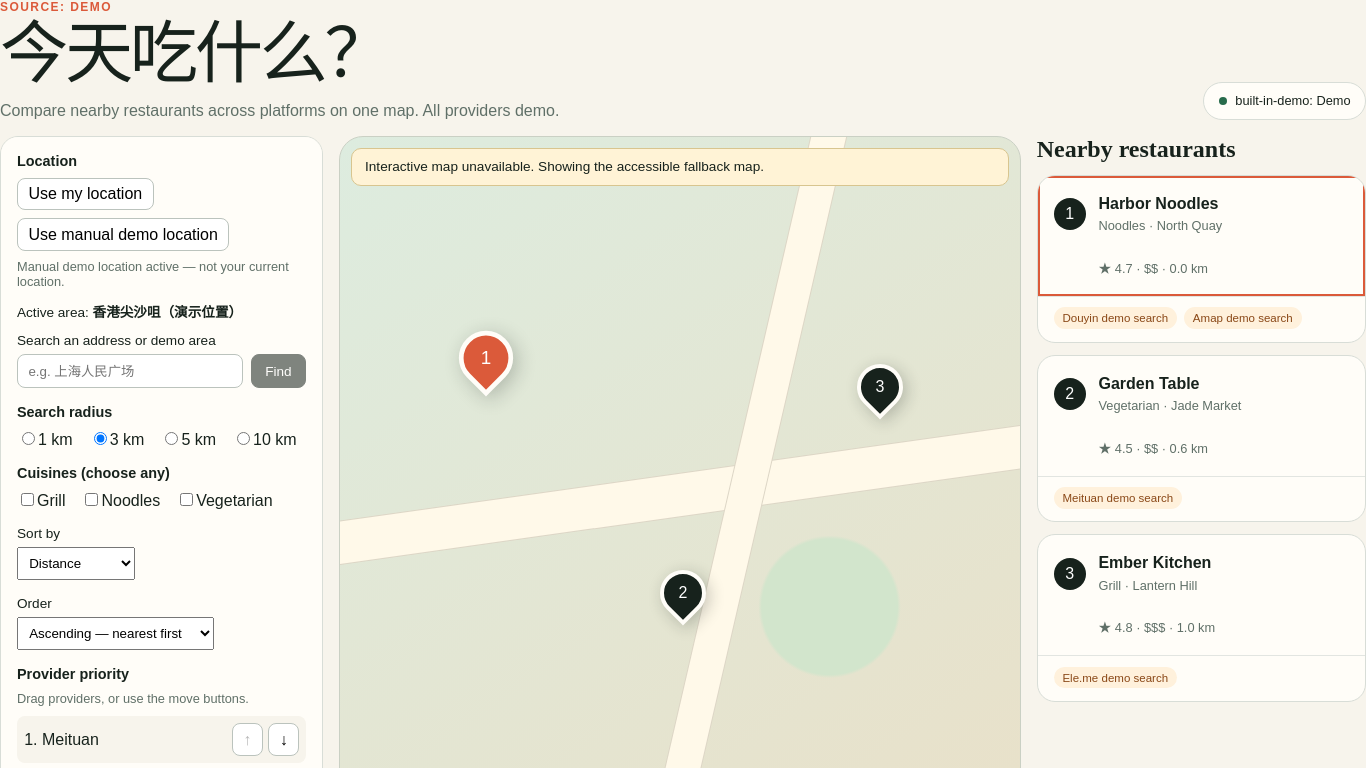
Test: PlaceExplorer › announces geolocation loading, denied, error, and success states
Click the button "Use my location" at (85, 194), box [17,178,154,210]
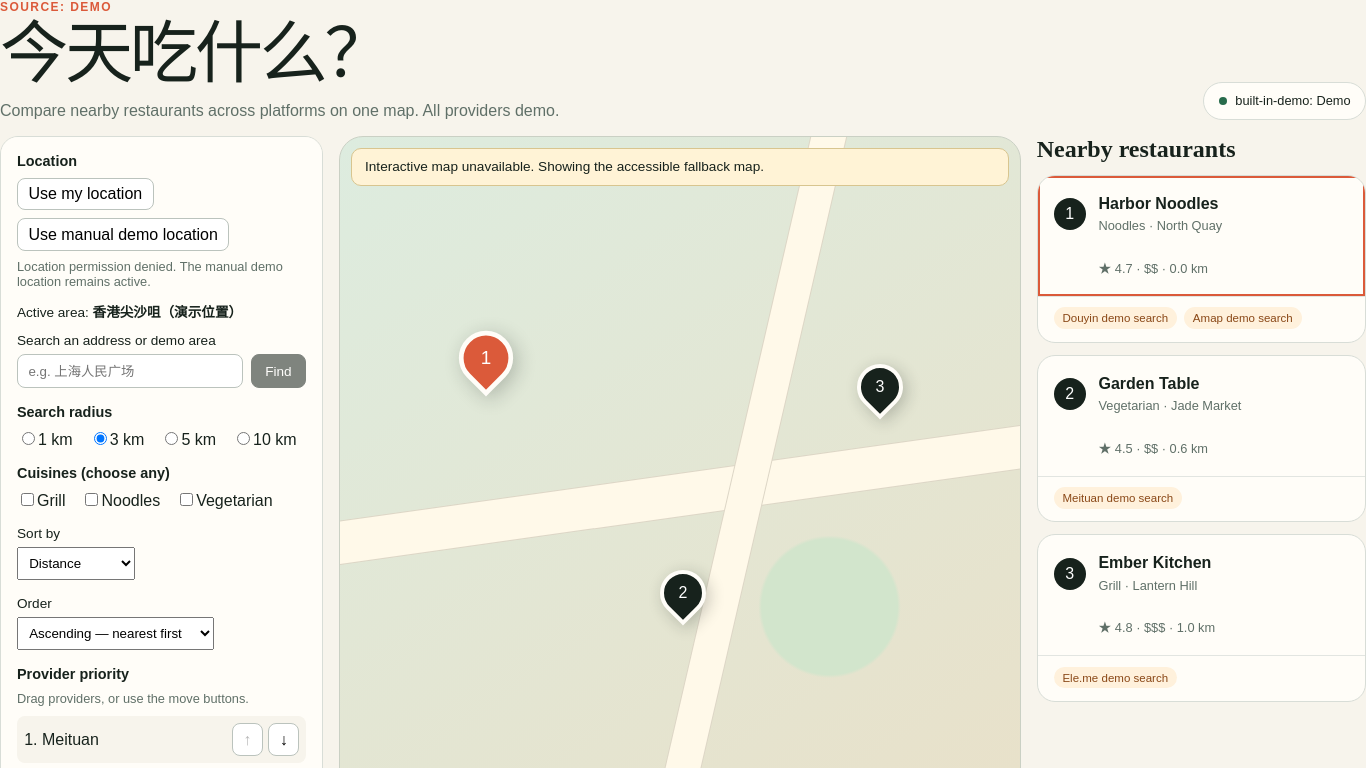
Expected: the text "Location permission denied. The manual demo location remains active." is shown, [17,259,306,289]
Click the button "Use my location" at (85, 194), box [17,178,154,210]
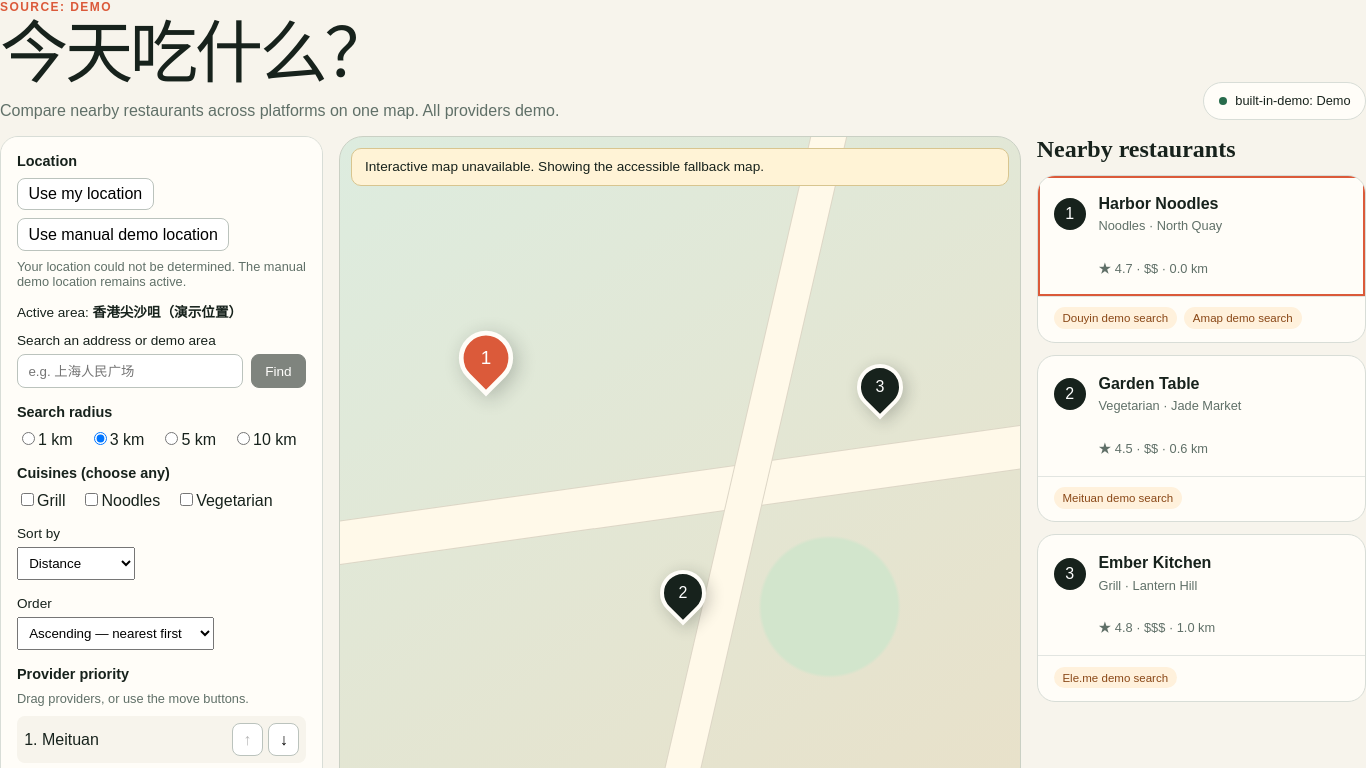
Expected: the text "could not be determined" is shown, [17,259,306,289]
Click the button "Use my location" at (85, 194), box [17,178,154,210]
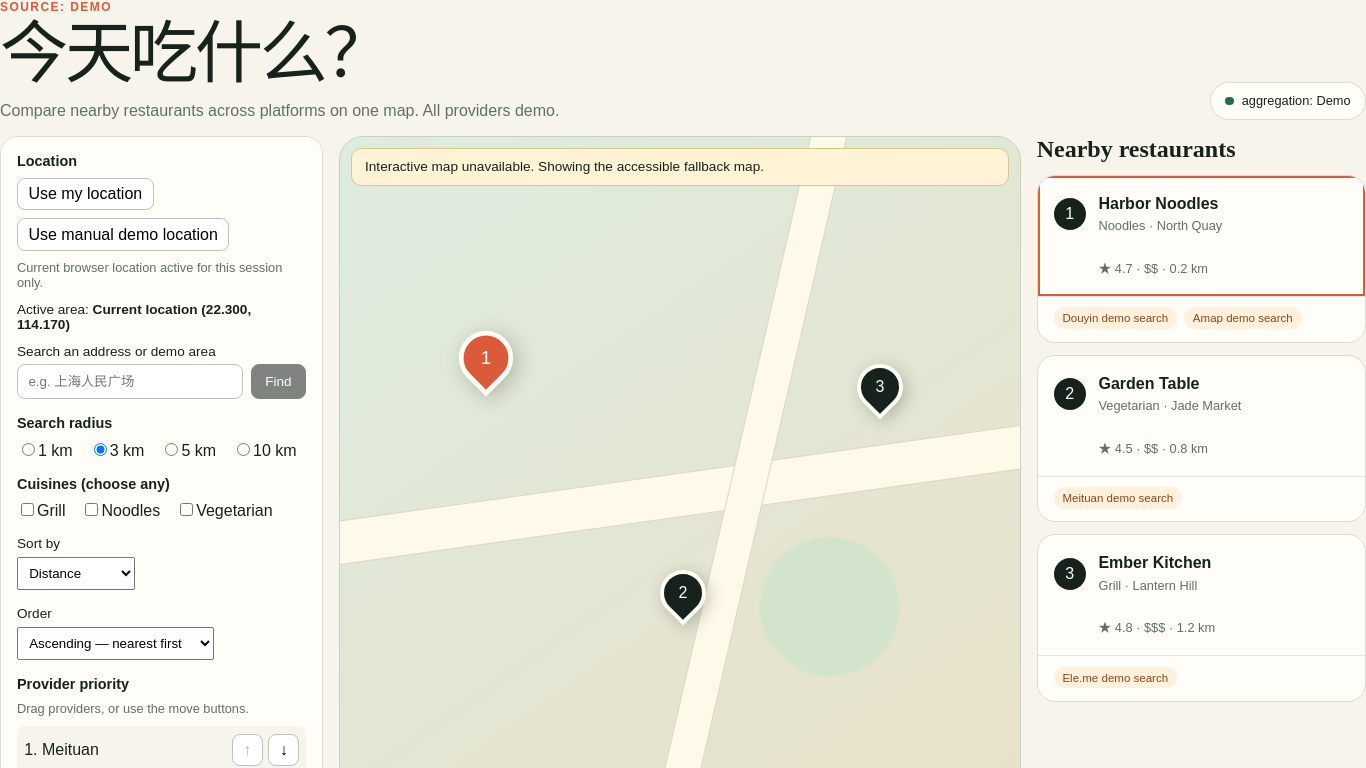
Expected: the text "Current browser location active for this session only." is shown, [17,259,306,289]
